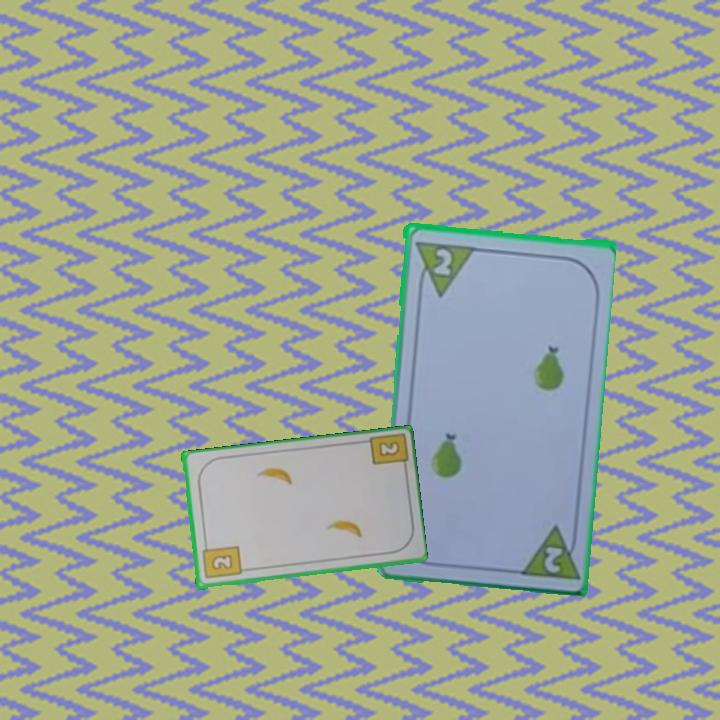2b: (364, 432, 408, 475), (199, 540, 243, 582)
2p: (514, 520, 580, 583), (411, 237, 475, 299)
